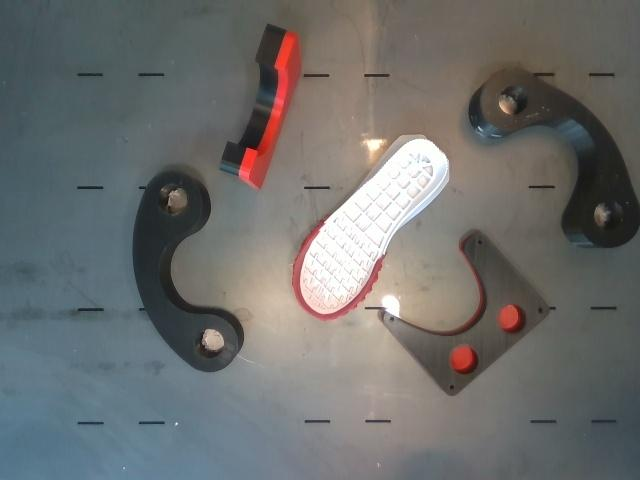shoes: (293, 138, 448, 319)
